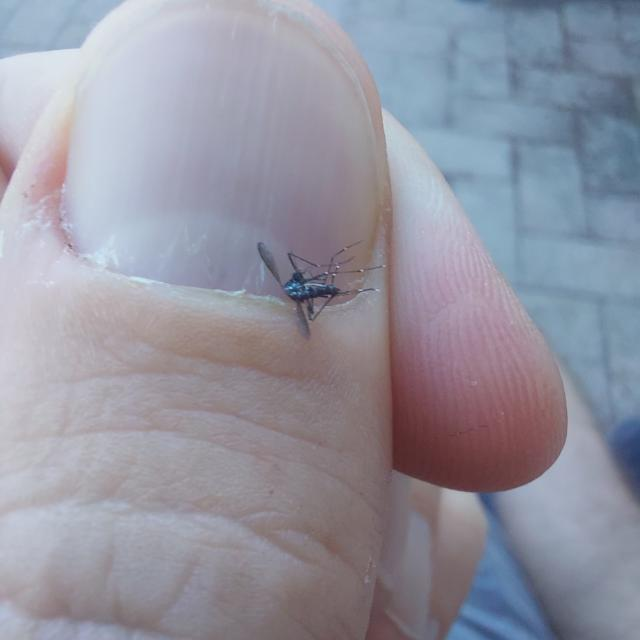albopictus: (251, 220, 390, 331)
